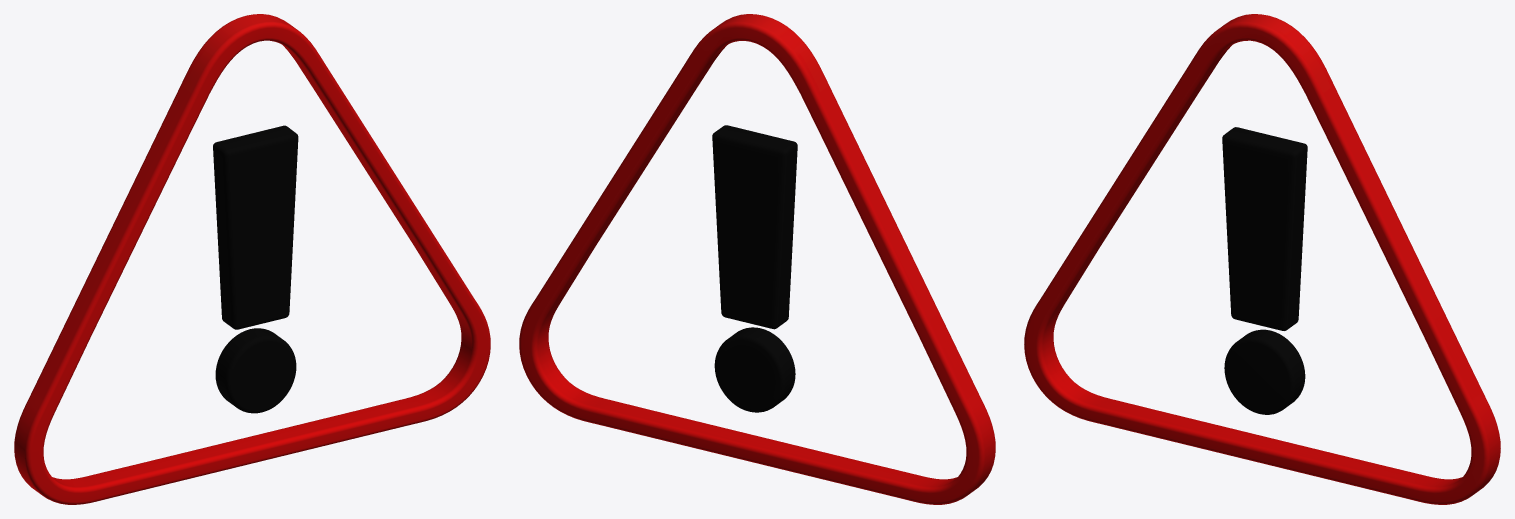
Rendered from warning.glb.
The picture shows the model from 3 angles, left to right: view 1: azimuth 30°, elevation 25°; view 2: azimuth 150°, elevation 25°; view 3: azimuth 330°, elevation 25°; orthographic projection.
Visible parts, largest first — view 1: node_id5; view 2: node_id5; view 3: node_id5.
Part boxes in pixels (left/top/right/bottom): node_id5: left=14, top=14, right=490, bottom=504; node_id5: left=519, top=14, right=995, bottom=504; node_id5: left=1024, top=14, right=1500, bottom=504.
Bounding box in the file's own units: 0.3012 × 0.2712 × 0.0173.
1 material, 1 textured.
